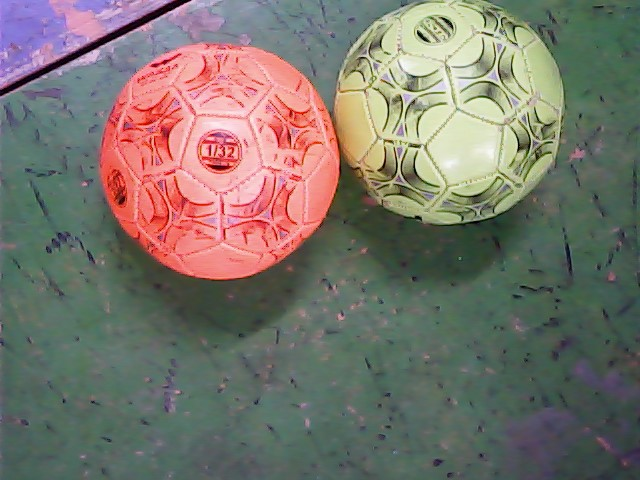Green_ball: (334, 1, 566, 235)
Orange_ball: (96, 38, 331, 279)
